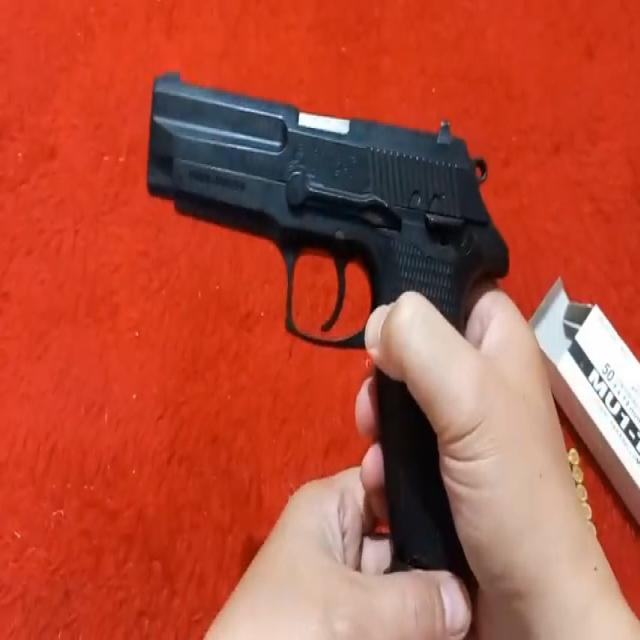handgun: (140, 61, 504, 584)
